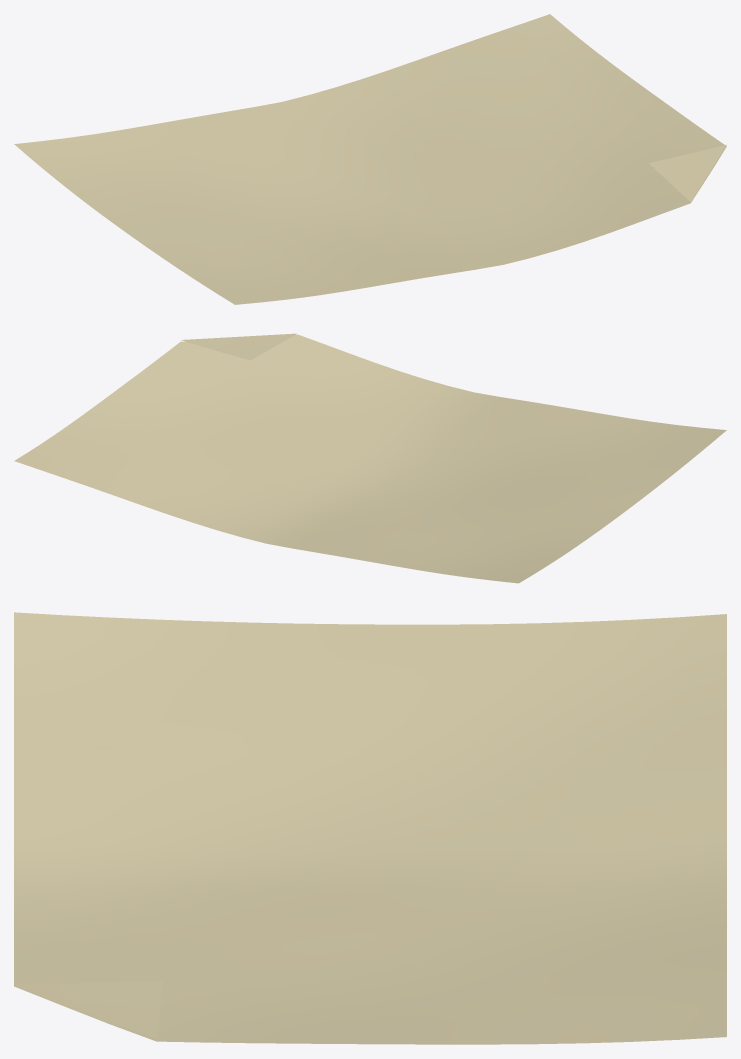
File: item_note.glb
3 views of the same model, one above another, from view 1: azimuth 30°, elevation 25°; view 2: azimuth 150°, elevation 25°; view 3: azimuth 270°, elevation 25° (orthographic). The views are drawn at different scales.
Parts seen in each view (by area): view 1: notiz; view 2: notiz; view 3: notiz.
Part boxes in pixels (bbox=[...]): notiz: bbox=[14, 14, 726, 304]; notiz: bbox=[14, 333, 726, 583]; notiz: bbox=[14, 612, 726, 1044].
Bounding box in the file's own units: 0.21 × 0.0117 × 0.15.
